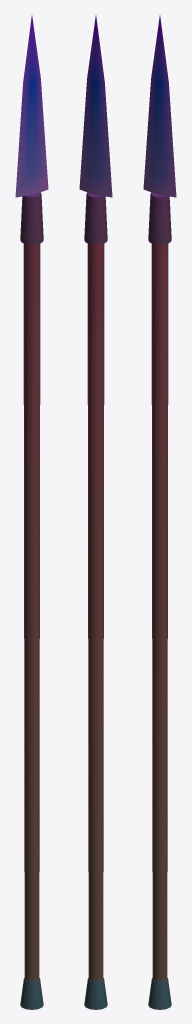
The model's file is spear_fen.glb.
3 views of the same model, side by side, from view 1: azimuth 30°, elevation 25°; view 2: azimuth 150°, elevation 25°; view 3: azimuth 330°, elevation 25° (orthographic).
Parts seen in each view (by area): view 1: shaft, leaf, collar, butt; view 2: shaft, leaf, collar, butt; view 3: shaft, leaf, collar, butt.
Part boxes in pixels (<box>): shaft: <box>23,243,40,981</box>; leaf: <box>15,15,48,197</box>; collar: <box>20,192,43,244</box>; butt: <box>20,978,43,1009</box>; shaft: <box>87,243,104,981</box>; leaf: <box>79,15,112,197</box>; collar: <box>84,192,107,244</box>; butt: <box>84,978,107,1009</box>; shaft: <box>151,243,168,981</box>; leaf: <box>143,15,176,197</box>; collar: <box>148,192,171,244</box>; butt: <box>148,978,171,1009</box>.
Size of the model in its own units: 0.104 by 2.98 by 0.064.
